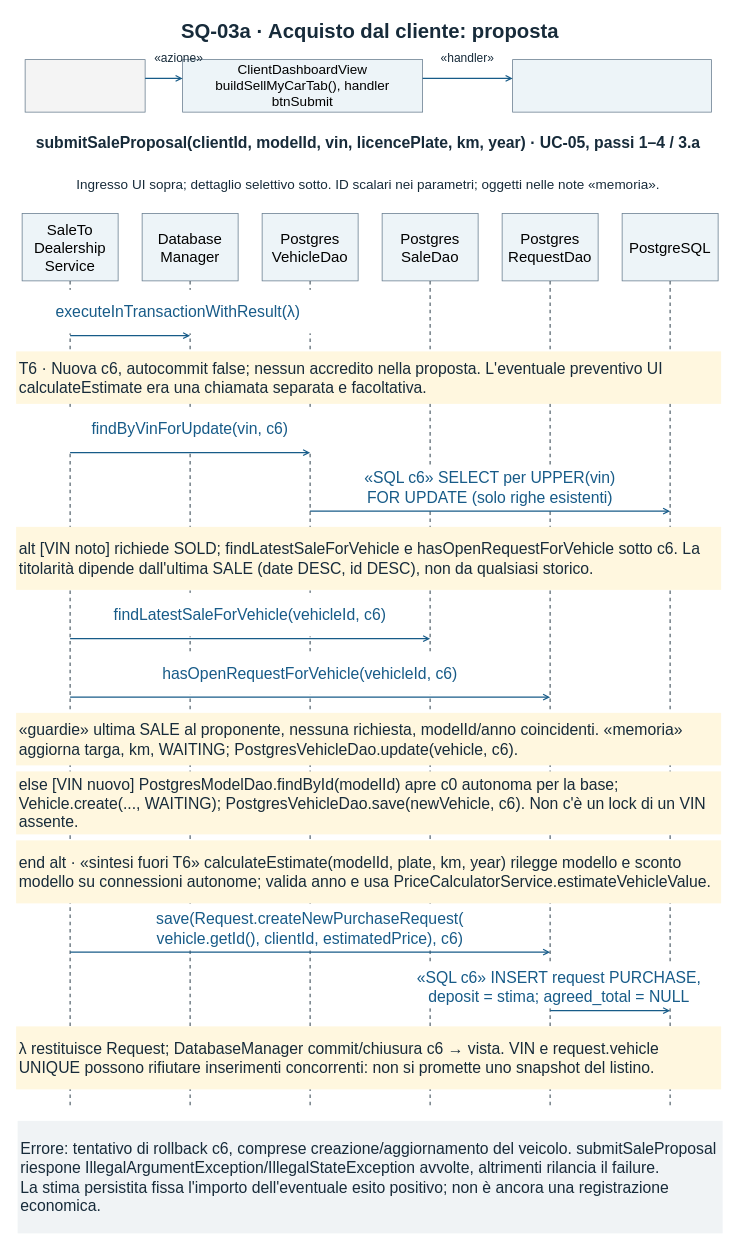
The diagram is 737 pixels wide and 1246 high, and some of its shapes have lost their labels. Here are the shapes that lost their labels. From the top down, the centre of each, then its label:
At (x=84, y=85): "Cliente: invia dati".
At (x=611, y=85): "SaleToDealershipService".
